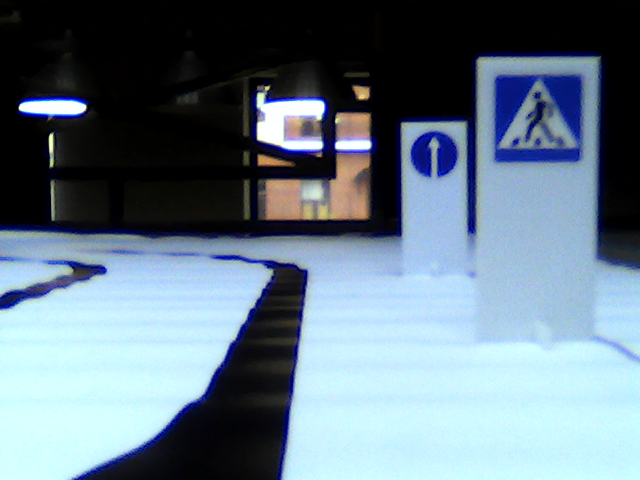forw: (408, 129, 459, 182)
pesh: (495, 70, 584, 164)
